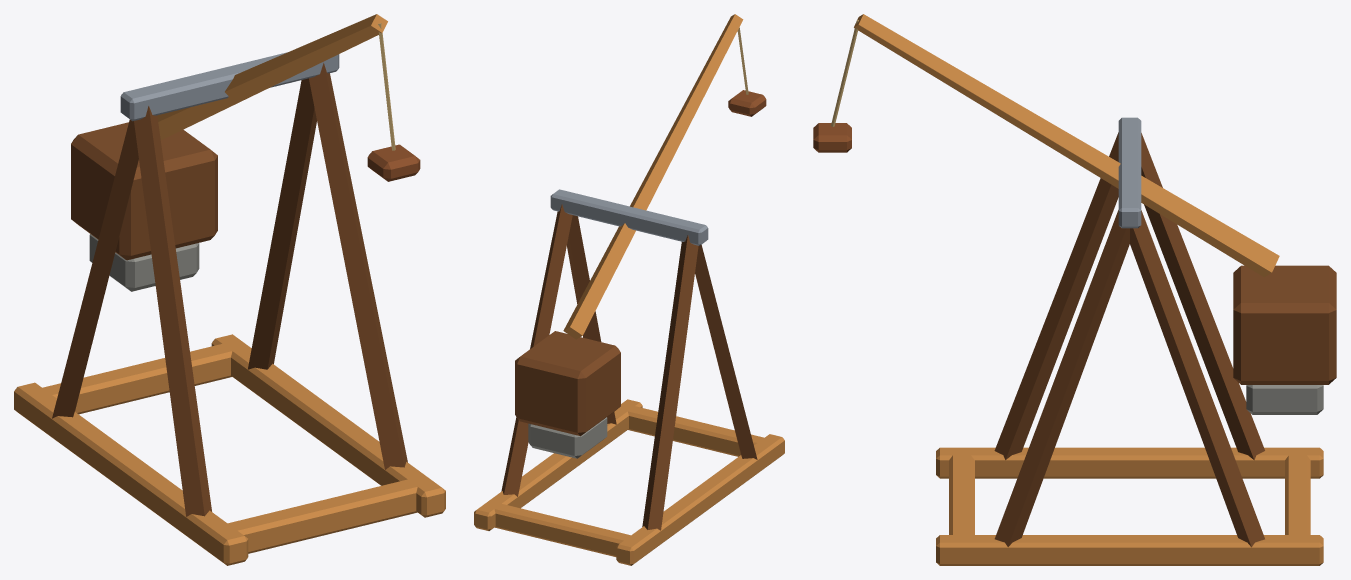
Rendered from Trebuchet.fbx.
The picture shows the model from 3 angles, left to right: view 1: azimuth 30°, elevation 25°; view 2: azimuth 150°, elevation 25°; view 3: azimuth 270°, elevation 25°; orthographic projection. The views are drawn at different scales.
Visible parts, largest first — view 1: Trebuchet, Trebuchet_Arm; view 2: Trebuchet, Trebuchet_Arm; view 3: Trebuchet, Trebuchet_Arm.
Boxes of the visible parts, x1,y1,x2,y2 form: Trebuchet: (14, 52, 445, 565); Trebuchet_Arm: (71, 14, 420, 291); Trebuchet: (474, 189, 784, 565); Trebuchet_Arm: (515, 14, 766, 458); Trebuchet: (936, 117, 1323, 565); Trebuchet_Arm: (813, 14, 1336, 414).
Bounding box in the file's own units: 3.6 × 8.62 × 8.1.
Materials: 1 (1 with a texture image).
